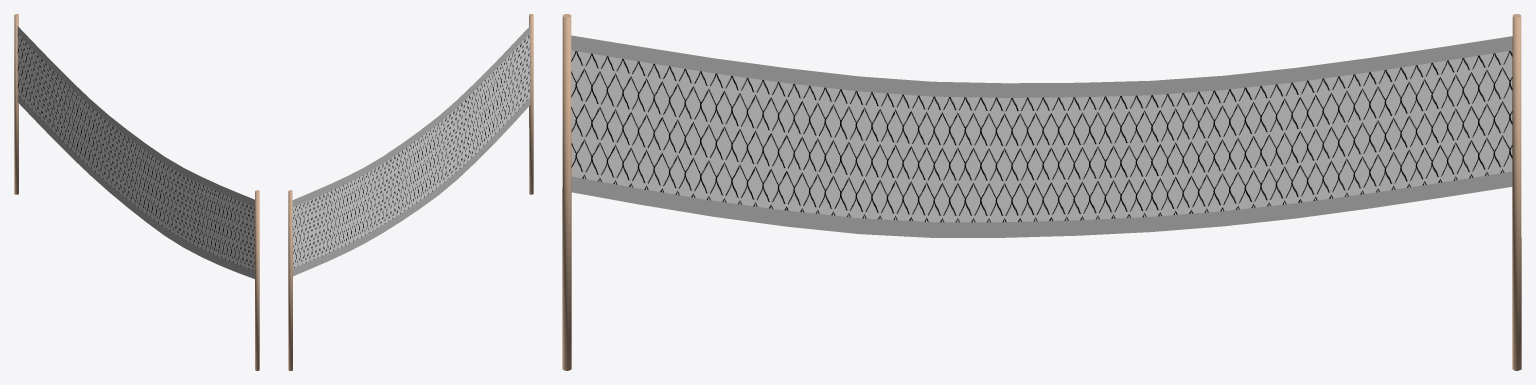
The model's file is net.fbx.
3 renders of one model, left to right at view 1: azimuth 30°, elevation 25°; view 2: azimuth 150°, elevation 25°; view 3: azimuth 270°, elevation 25°, orthographic. The views are drawn at different scales.
Visible parts, largest first — view 1: Plane, Circle.000, Circle.001; view 2: Plane, Circle.001, Circle.000; view 3: Plane, Circle.000, Circle.001.
Part boxes in pixels (box(x1,y1,x2,y2)): Plane: box(17, 26, 254, 278); Circle.000: box(255, 190, 259, 370); Circle.001: box(14, 14, 18, 194); Plane: box(292, 26, 530, 276); Circle.001: box(288, 190, 292, 370); Circle.000: box(529, 14, 533, 194); Plane: box(571, 35, 1512, 237); Circle.000: box(562, 14, 571, 370); Circle.001: box(1512, 14, 1521, 370).
Bounding box in the file's own units: 7.42 × 328 × 808.
3 materials, 1 textured.
